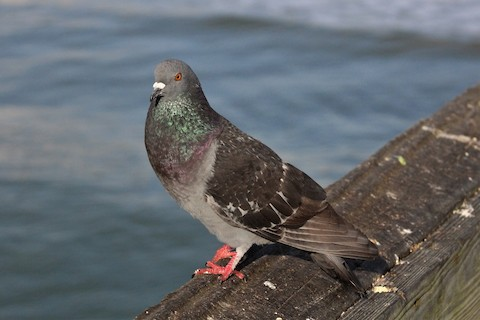pigeon: (144, 55, 399, 298)
